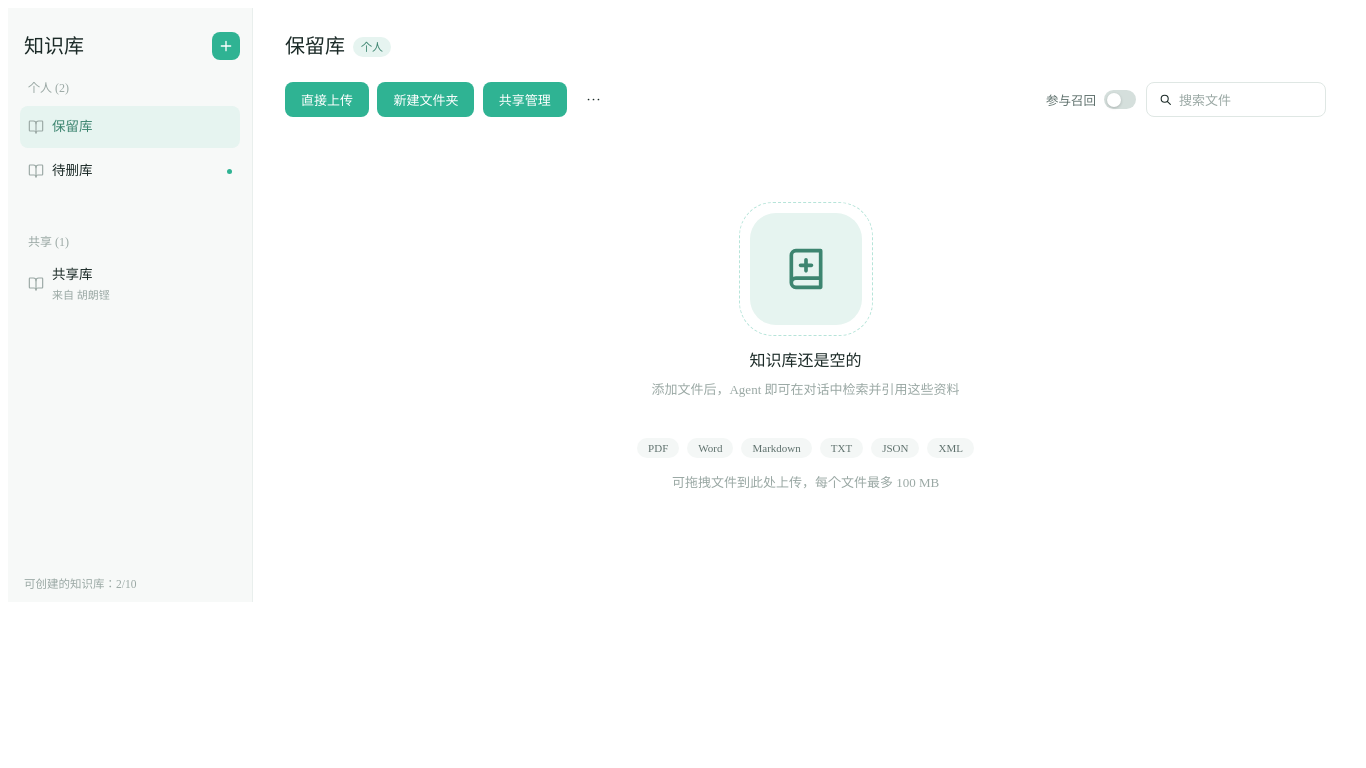
Test case: removes a knowledge base from the list without waiting for delete to finish
Step 1. Click the button "待删库" → (72, 170), box [28, 163, 232, 179]
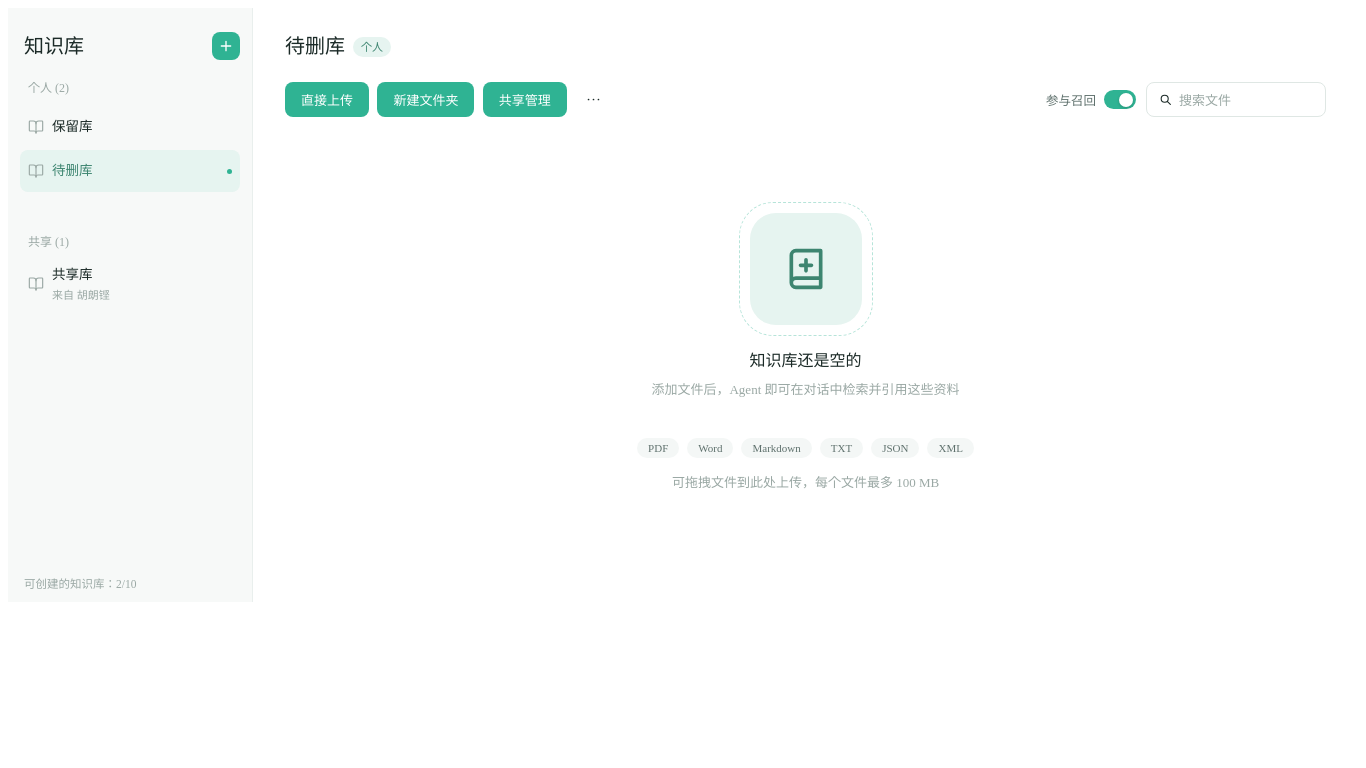
Step 2. Click the button named "更多操作" → (594, 100), box [579, 84, 609, 114]
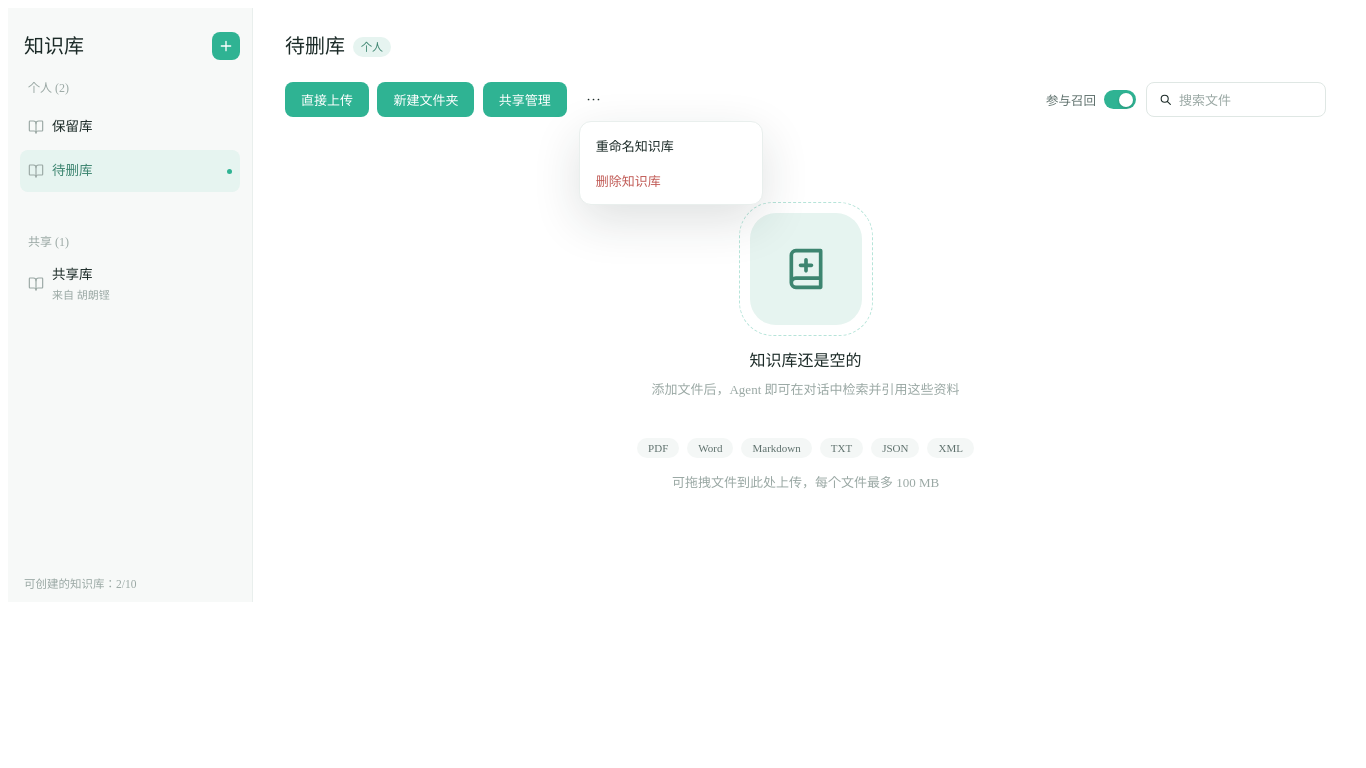
Step 3. Click the menu item "删除知识库" → (671, 180), box [586, 162, 756, 198]
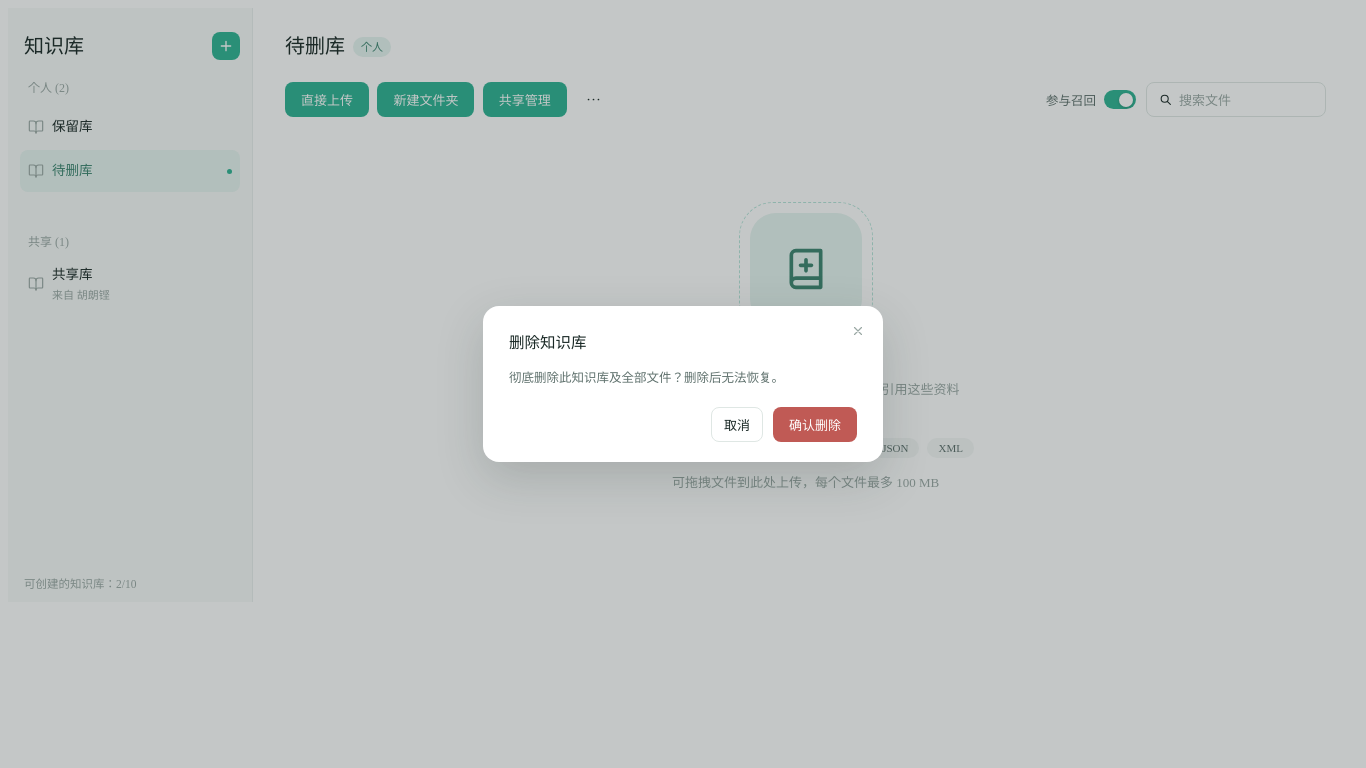
Expected: the heading "删除知识库" is shown, [509, 334, 586, 351]
Step 4. Click the button "确认删除" → (815, 424), box [773, 407, 857, 442]
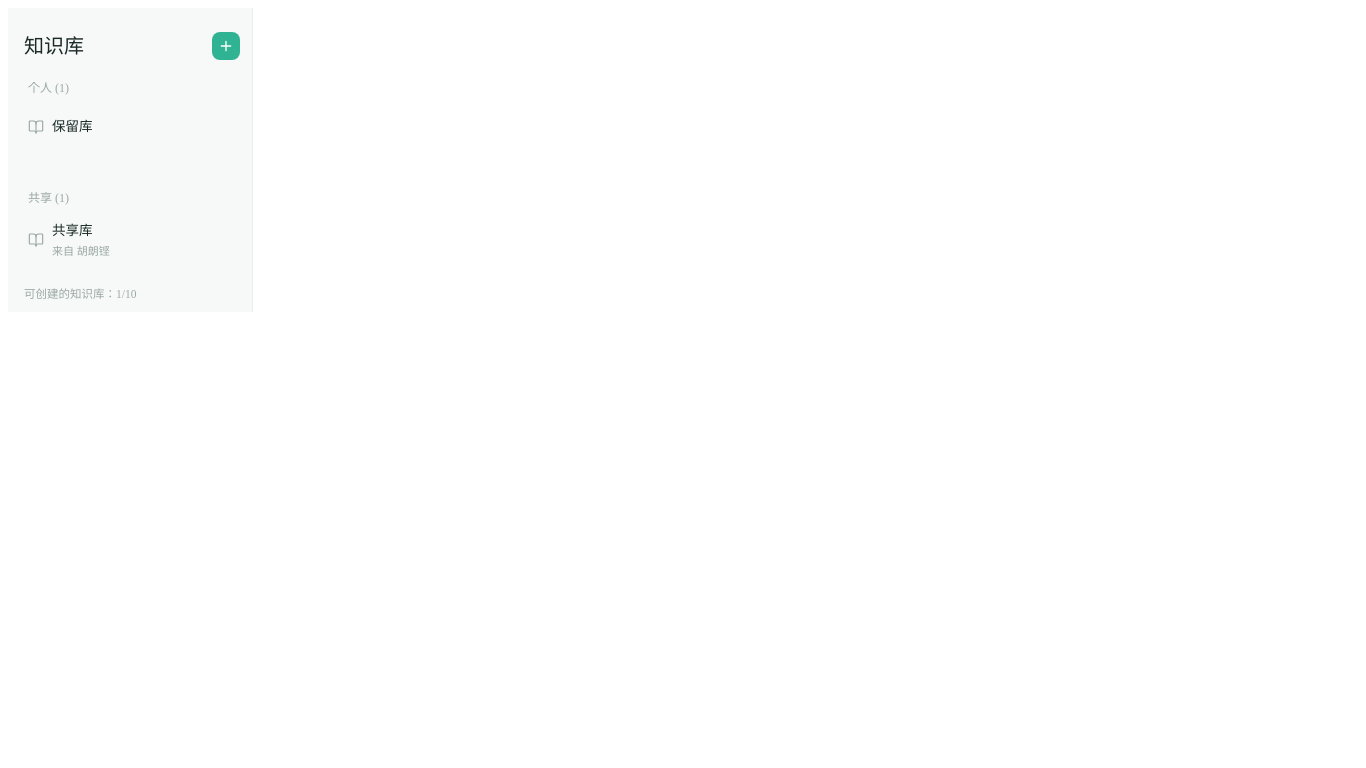
Expected: the heading with id "mk-delete-title" is gone
Expected: the text "待删库" is gone
Expected: the heading "待删库 个人" is gone
